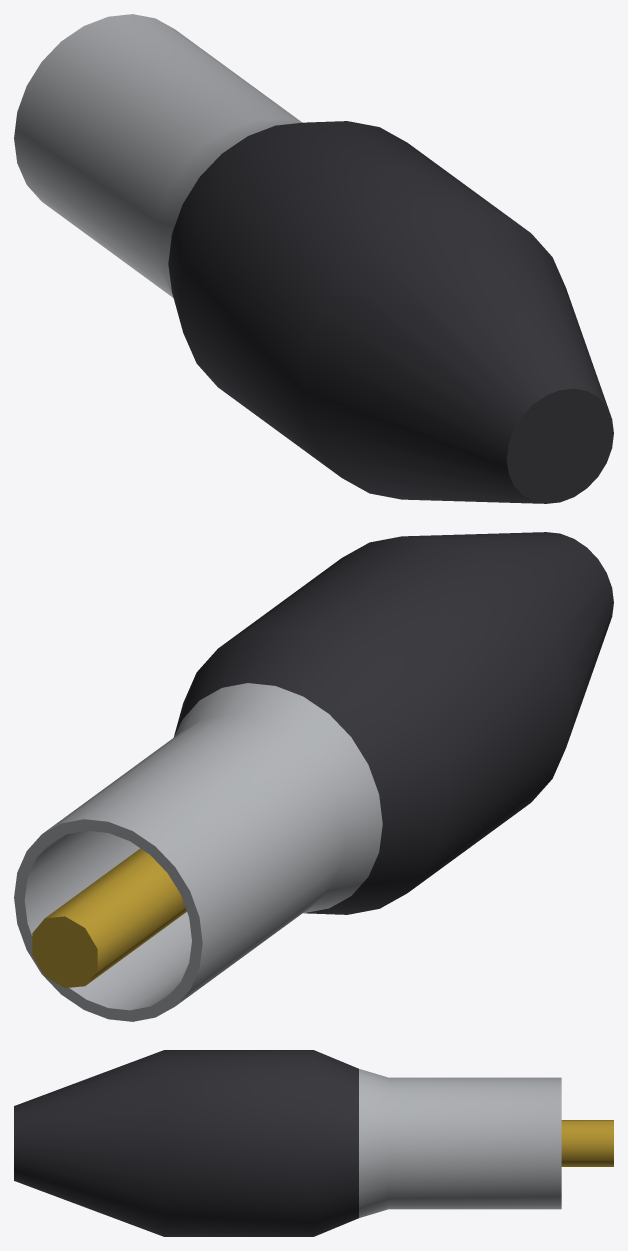
File: rca.glb
3 views of the same model, one above another, from view 1: azimuth 30°, elevation 25°; view 2: azimuth 150°, elevation 25°; view 3: azimuth 270°, elevation 25° (orthographic). The views are drawn at different scales.
Parts seen in each view (by area): view 1: rca-body; view 2: rca-body; view 3: rca-body.
Boxes of the visible parts, x1,y1,x2,y2 form: rca-body: [14, 14, 613, 503]; rca-body: [14, 532, 613, 1021]; rca-body: [14, 1050, 613, 1236].
Bounding box in the file's own units: 0.0125 × 0.0125 × 0.04.
